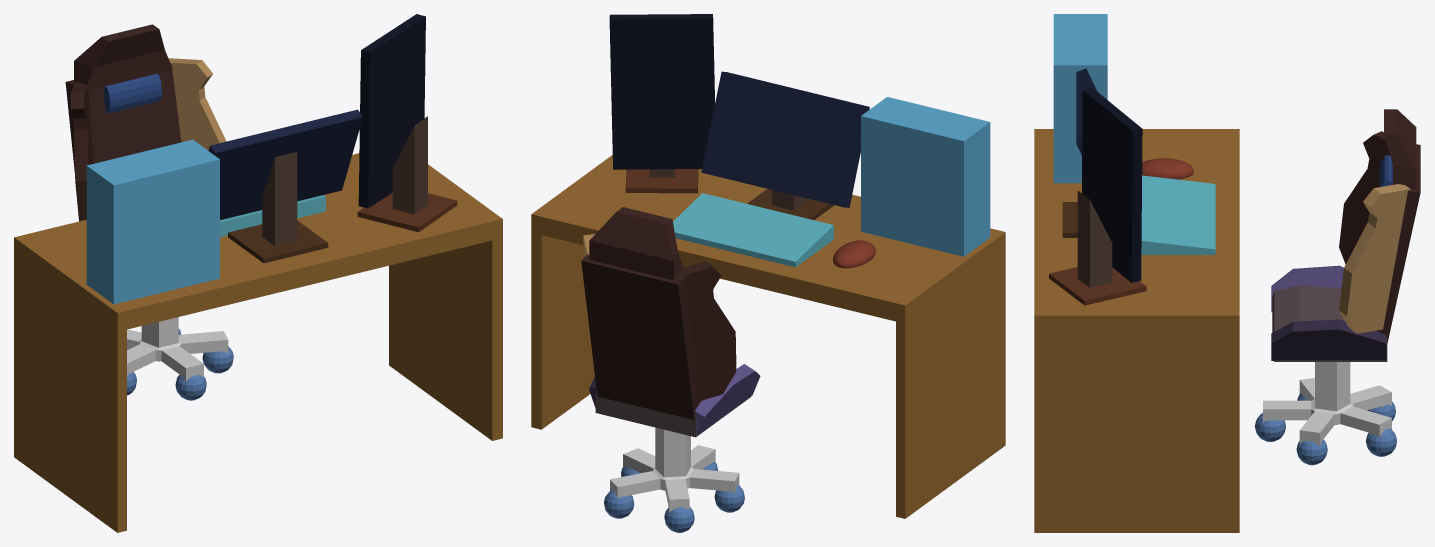
The model's file is Cadeira Gamer colorido.glb.
3 renders of one model, left to right at view 1: azimuth 30°, elevation 25°; view 2: azimuth 150°, elevation 25°; view 3: azimuth 270°, elevation 25°, orthographic. The views are drawn at different scales.
Visible parts, largest first — view 1: Mesa, Computador, Monitor 2, Monitor, Encosto, Sup Cabeça, Base, Sup Encosto 1.001, Suporte Monitor, Suporte Monitor 2, Sup Encosto 1, Base Monitor (+4 smaller); view 2: Mesa, Computador, Monitor, Monitor 2, Encosto, Teclado, Base, Sup Encosto 1, Sup Cabeça, Rodinha 2, Assento, Suporte 1 (+3 smaller); view 3: Mesa, Monitor 2, Computador, Sup Encosto 1.001, Base, Teclado, Suporte 1.001, Assento, Suporte Monitor 2, Sup Encosto 1, Rodinha 2, Sup Cabeça (+6 smaller).
Boxes of the visible parts, x1,y1,x2,y2 form: Mesa: (14, 153, 502, 532); Computador: (86, 139, 219, 304); Monitor 2: (358, 14, 425, 208); Monitor: (208, 109, 362, 219); Encosto: (65, 64, 181, 172); Sup Cabeça: (74, 24, 172, 89); Base: (127, 317, 228, 381); Sup Encosto 1.001: (168, 58, 226, 150); Suporte Monitor: (262, 152, 297, 246); Suporte Monitor 2: (392, 116, 427, 214); Sup Encosto 1: (70, 82, 93, 221); Base Monitor: (228, 220, 328, 263); Mesa: (531, 155, 1005, 518); Computador: (861, 97, 990, 256); Monitor: (701, 71, 869, 207); Monitor 2: (609, 14, 714, 169); Encosto: (581, 254, 701, 419); Teclado: (673, 193, 833, 267); Base: (610, 427, 739, 512); Sup Encosto 1: (677, 261, 736, 401); Sup Cabeça: (589, 207, 683, 280); Rodinha 2: (604, 462, 744, 532); Assento: (595, 390, 751, 437); Suporte 1: (695, 364, 760, 435); Mesa: (1034, 129, 1239, 532); Monitor 2: (1082, 87, 1142, 282); Computador: (1053, 14, 1107, 183); Sup Encosto 1.001: (1339, 184, 1410, 333); Base: (1263, 362, 1391, 447); Teclado: (1141, 175, 1215, 254); Suporte 1.001: (1271, 319, 1386, 360); Assento: (1272, 285, 1387, 361); Suporte Monitor 2: (1077, 190, 1112, 287); Sup Encosto 1: (1339, 131, 1390, 264); Rodinha 2: (1255, 393, 1396, 465); Sup Cabeça: (1384, 109, 1416, 188).
Bounding box in the file's own units: 34.52 × 33.82 × 30.21.
21 materials, 21 textured.
